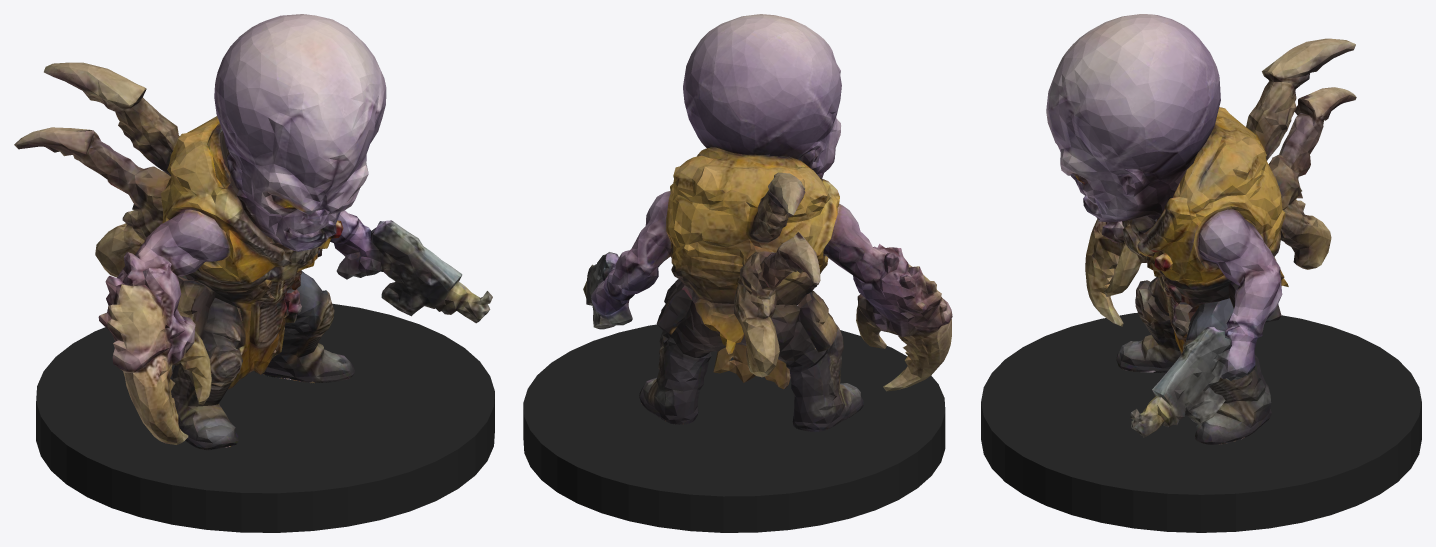
Rendered from metamorph-flamer.glb.
3 views of the same model, side by side, from view 1: azimuth 30°, elevation 25°; view 2: azimuth 150°, elevation 25°; view 3: azimuth 270°, elevation 25° (orthographic). The views are drawn at different scales.
Parts seen in each view (by area): view 1: figure, base; view 2: figure, base; view 3: figure, base.
Boxes of the visible parts, <box> form: figure: <box>14,14,492,450</box>; base: <box>36,303,494,532</box>; figure: <box>583,14,952,432</box>; base: <box>523,324,945,532</box>; figure: <box>1046,14,1356,444</box>; base: <box>981,312,1421,532</box>.
Size of the model in its own units: 1.26 by 1.32 by 1.26.
Materials: 2 (1 with a texture image).
